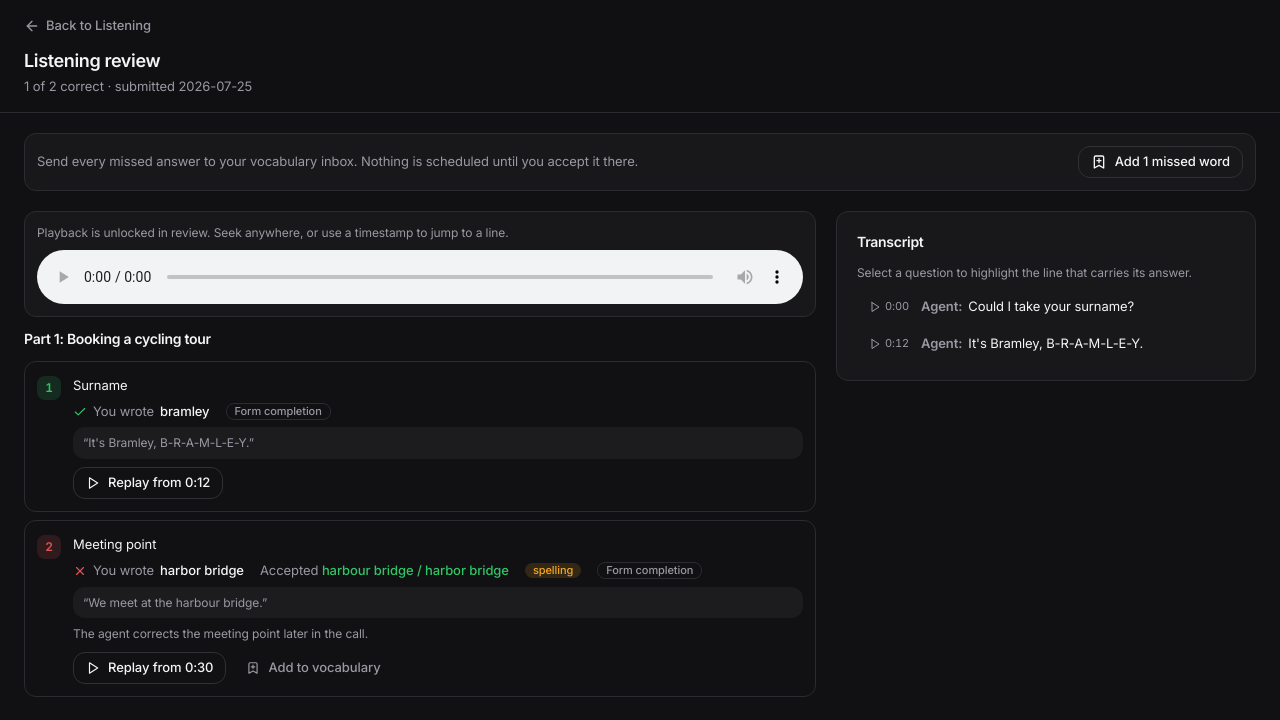
ReviewScreen › highlights the answer line when a question is selected
(page scrolled)
Click the button "Meeting point" at [115, 544], box [73,534,803,555]
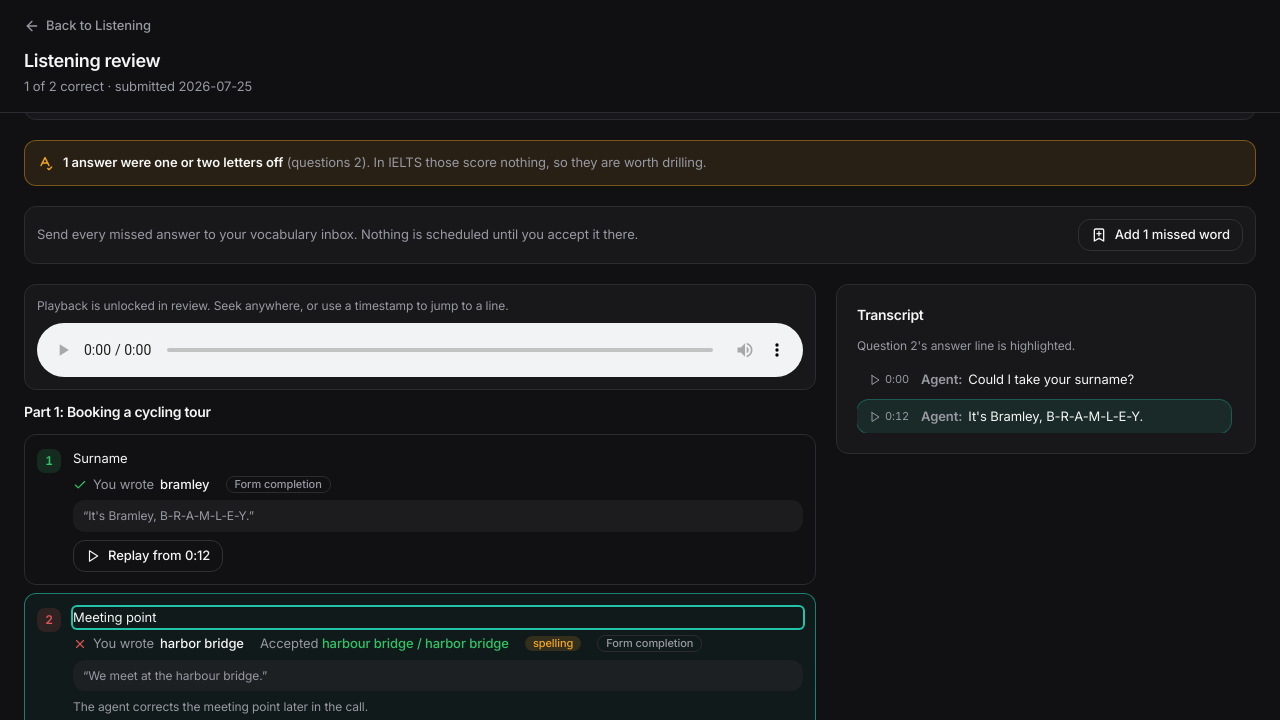
Check: the text "Question 2's answer line is highlighted." is shown, box [857,338,1075,353]
